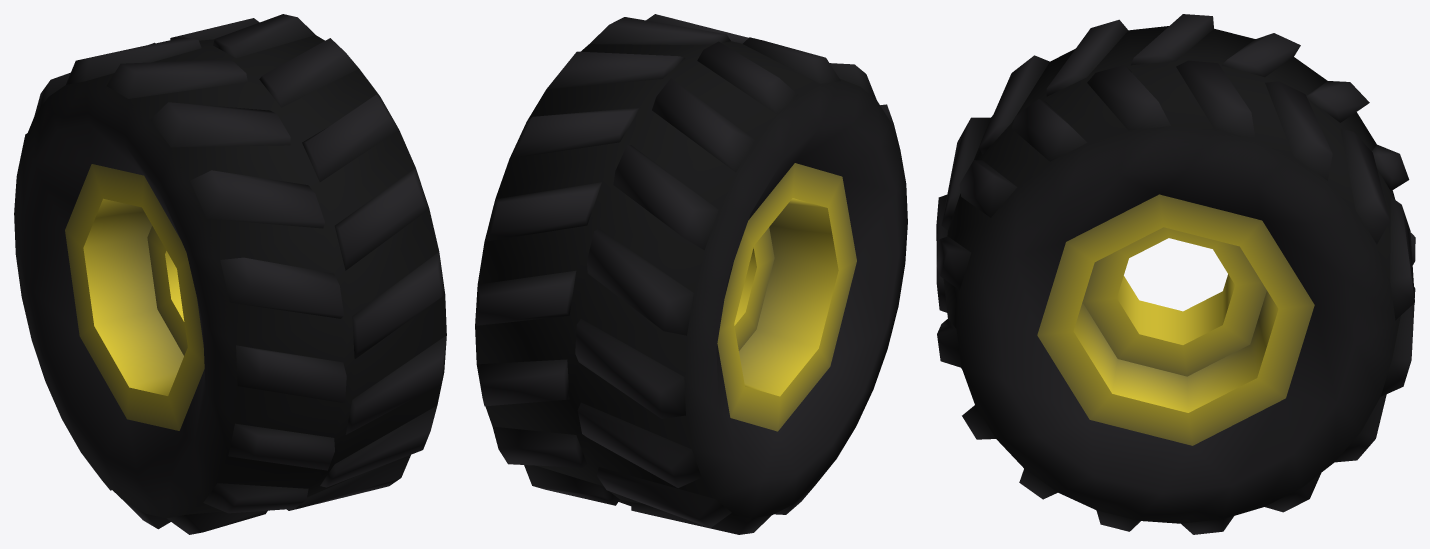
File: FBX_Tire.fbx
The picture shows the model from 3 angles, left to right: view 1: azimuth 30°, elevation 25°; view 2: azimuth 150°, elevation 25°; view 3: azimuth 270°, elevation 25°; orthographic projection.
Parts seen in each view (by area): view 1: Cylinder; view 2: Cylinder; view 3: Cylinder.
Boxes of the visible parts, bbox=[...] form: Cylinder: bbox=[14, 14, 446, 534]; Cylinder: bbox=[475, 14, 907, 534]; Cylinder: bbox=[936, 14, 1415, 534].
Bounding box in the file's own units: 1.13 × 2.06 × 2.06.
